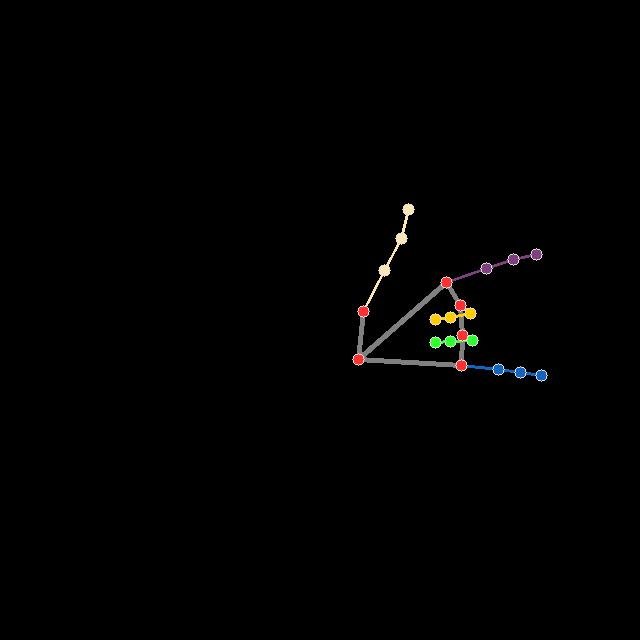spiderman: (349, 203, 553, 385)
